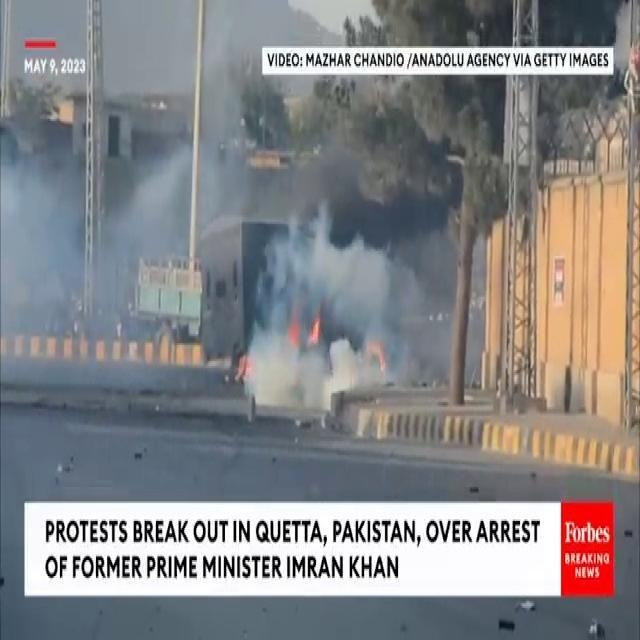Smoke: (0, 111, 151, 374), (242, 174, 415, 395)
